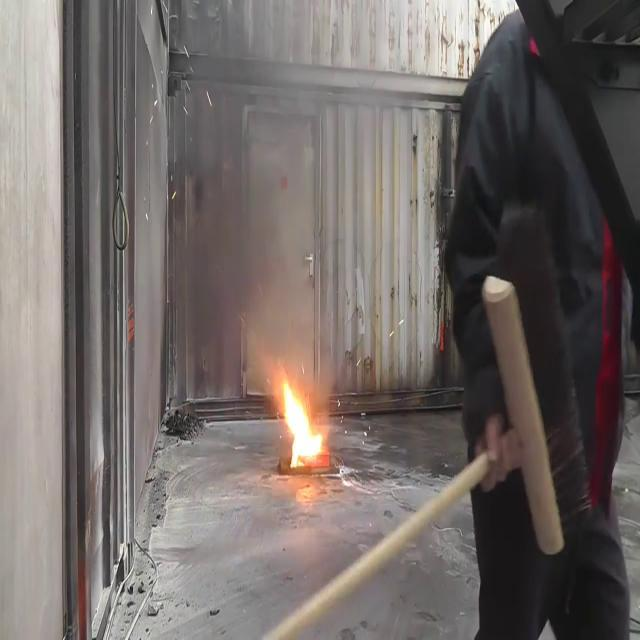Fire: (276, 371, 328, 471)
Smoke: (178, 11, 338, 385)
